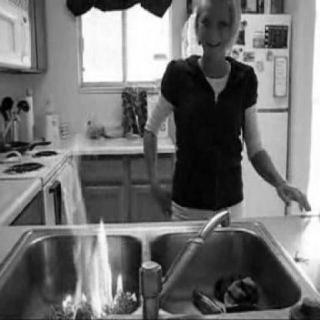Fire: (39, 136, 149, 318)
